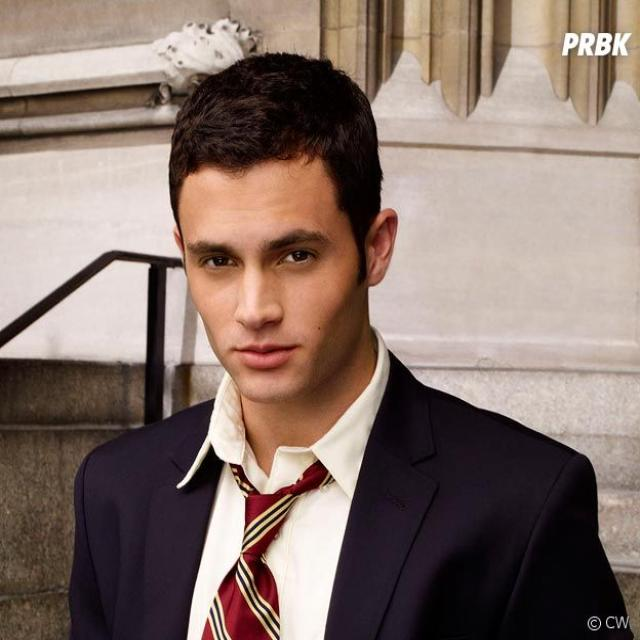human: (59, 49, 632, 636)
